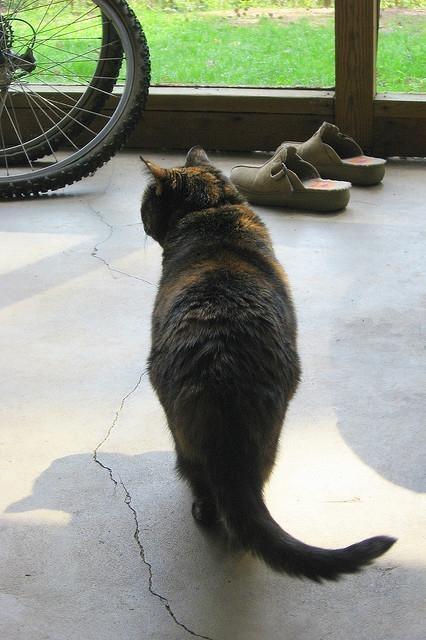bicycle: (6, 1, 147, 198)
